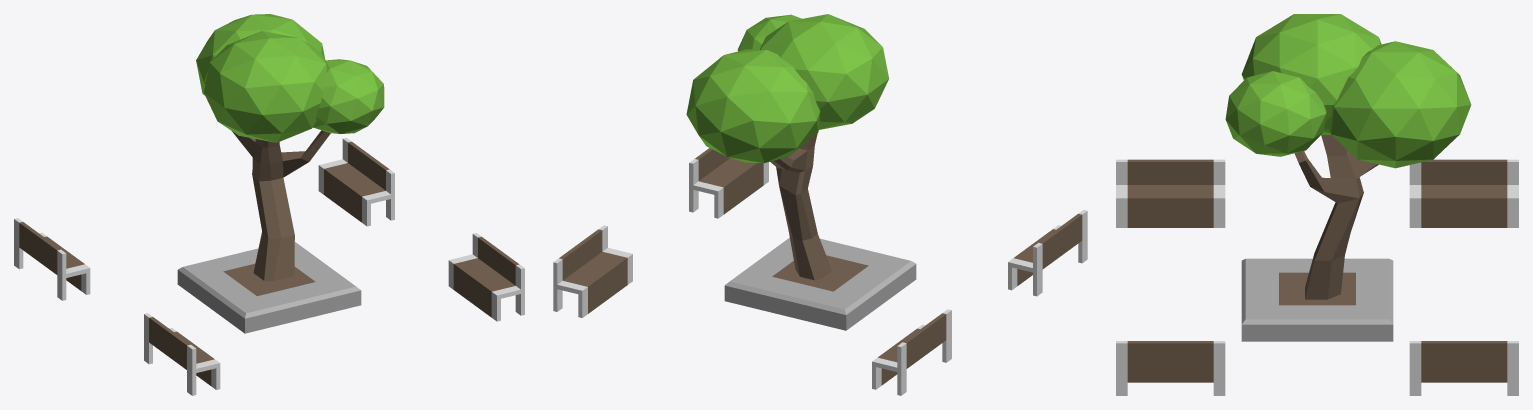
The model's file is parks_02.fbx.
3 renders of one model, left to right at view 1: azimuth 30°, elevation 25°; view 2: azimuth 150°, elevation 25°; view 3: azimuth 270°, elevation 25°, orthographic. The views are drawn at different scales.
Visible parts, largest first — view 1: Park_001; view 2: Park_001; view 3: Park_001.
Boxes of the visible parts, x1,y1,x2,y2 form: Park_001: (14, 14, 524, 395); Park_001: (553, 14, 1087, 395); Park_001: (1116, 14, 1518, 395).
Size of the model in its own units: 172 by 132 by 159.
